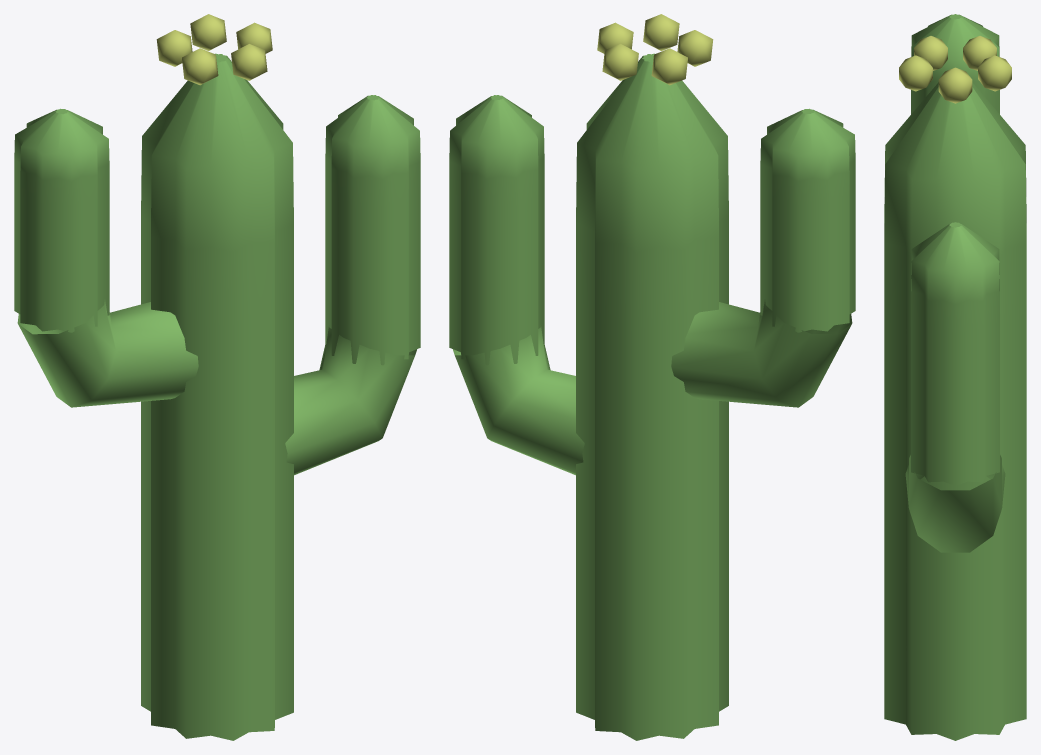
The model's file is cactus.fbx.
3 renders of one model, left to right at view 1: azimuth 30°, elevation 25°; view 2: azimuth 150°, elevation 25°; view 3: azimuth 270°, elevation 25°, orthographic. The views are drawn at different scales.
Visible parts, largest first — view 1: cactus_LOD0; view 2: cactus_LOD0; view 3: cactus_LOD0.
Boxes of the visible parts, <box> form: cactus_LOD0: <box>14,14,420,740</box>; cactus_LOD0: <box>449,14,855,740</box>; cactus_LOD0: <box>884,14,1026,740</box>.
Size of what is drawn, in the model's own units: 2.66 by 4.37 by 0.856.
